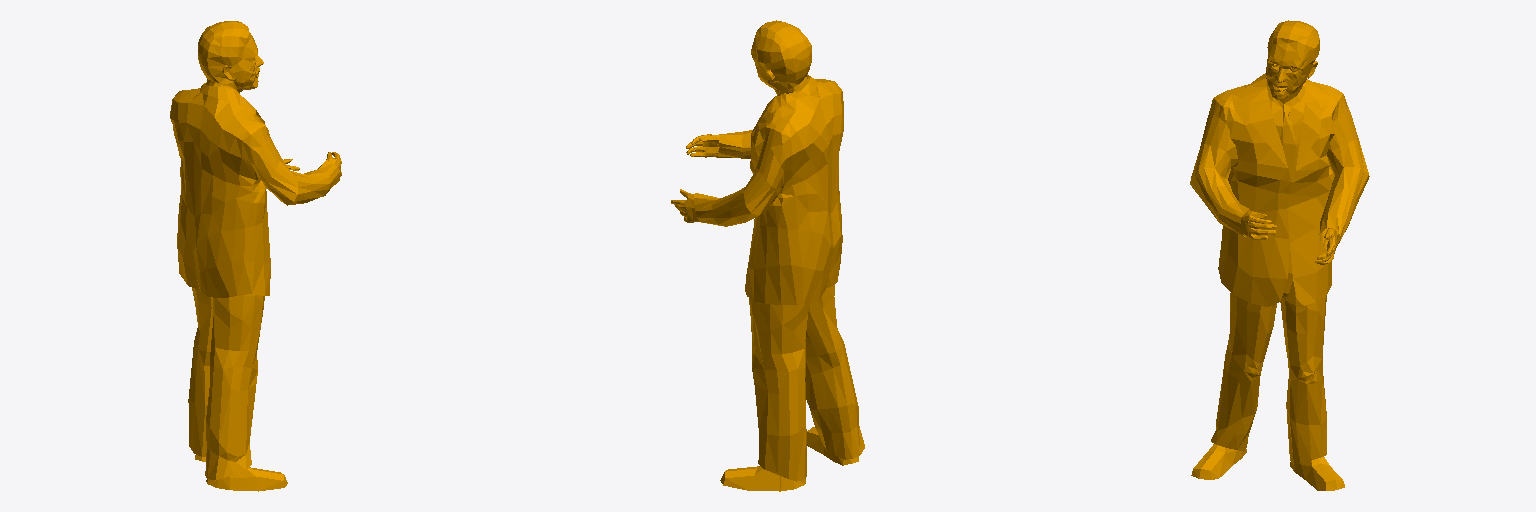
The robot description file, URDF, robot "professor":
<?xml version="1.0" ?>
<robot name="professor">
  <!-- A professor. -->

  <link name="professor_footprint">
    <inertial>
      <mass value="62" />
      <origin xyz="0 0 0.9" />
      <inertia ixx="1" ixy="0" ixz="0" iyy="1" iyz="0" izz="1" />
    </inertial>
    <collision>
      <origin xyz="0 0 0.9" rpy="0 0 -1.57" />
      <geometry>
        <cylinder radius="0.33" length="1.8" />
      </geometry>
    </collision>
    <visual>
      <origin xyz="0 0 0" rpy="1.571 0 -1.571" />
      <geometry>
        <mesh filename="package://tiago_bartender_world/meshes/man_professor.dae" scale="0.04 0.04 0.04" />
      </geometry>
    </visual>
  </link>

</robot>

--- Facts derived from the render (not from the file) ---
The picture shows the robot from 3 angles, left to right: view 1: azimuth 30°, elevation 25°; view 2: azimuth 150°, elevation 25°; view 3: azimuth 270°, elevation 25°; orthographic projection.
Model professor with 1 links and 0 joints (none), rooted at professor_footprint, posed all joints at 0.
Links seen in each view (by area): view 1: professor_footprint; view 2: professor_footprint; view 3: professor_footprint.
Boxes of the visible links, x1,y1,x2,y2 form: professor_footprint: [170, 21, 341, 491]; professor_footprint: [671, 20, 864, 491]; professor_footprint: [1190, 20, 1369, 490].
Size in the robot's own frame: 0.649 by 0.6516 by 1.81 metres.
1 mesh visuals loaded from 1 distinct referenced files (1 Collada DAE).
